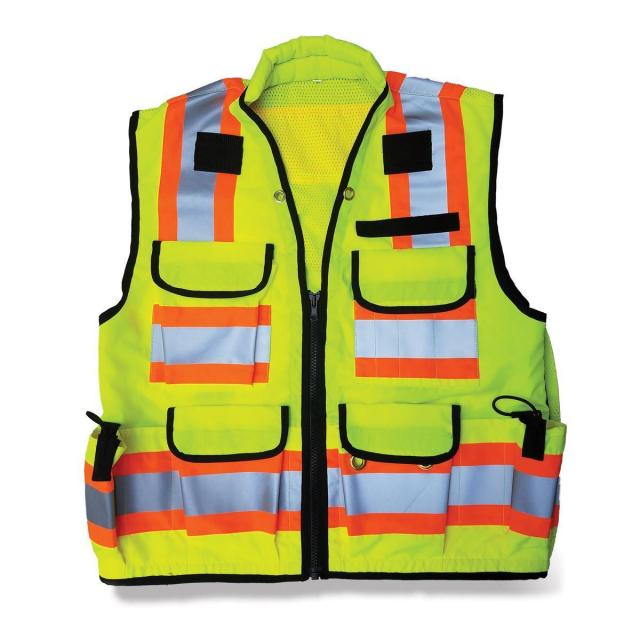Vest: (79, 30, 568, 584)
